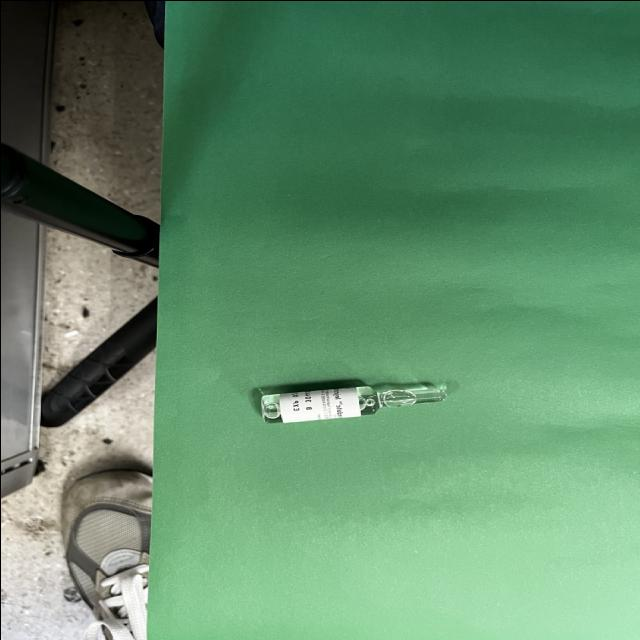Ampoules: (260, 385, 447, 422)
